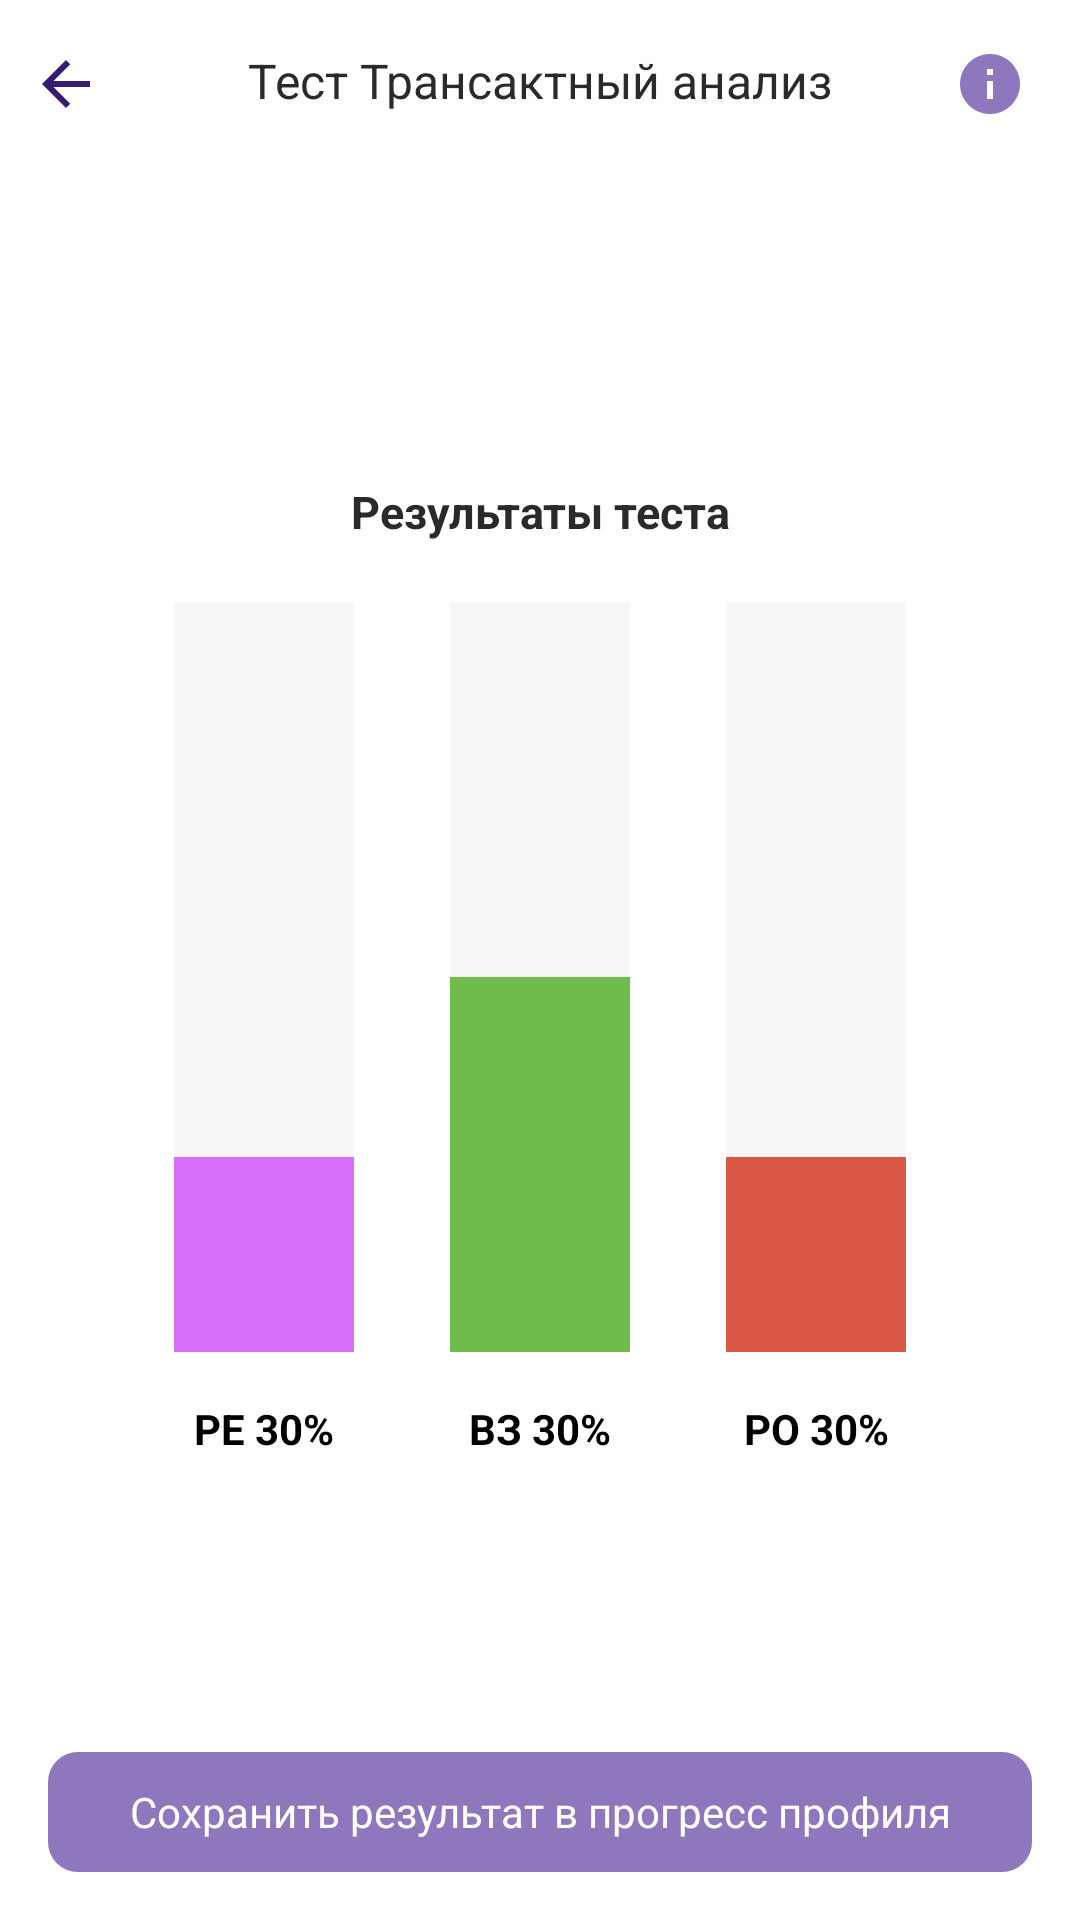

Icon bounding boxes for this 1080x1920 phone screenshot, format (x1, y1, x2, y2):
arrow back: (42, 60, 90, 108)
info: (960, 54, 1020, 114)
